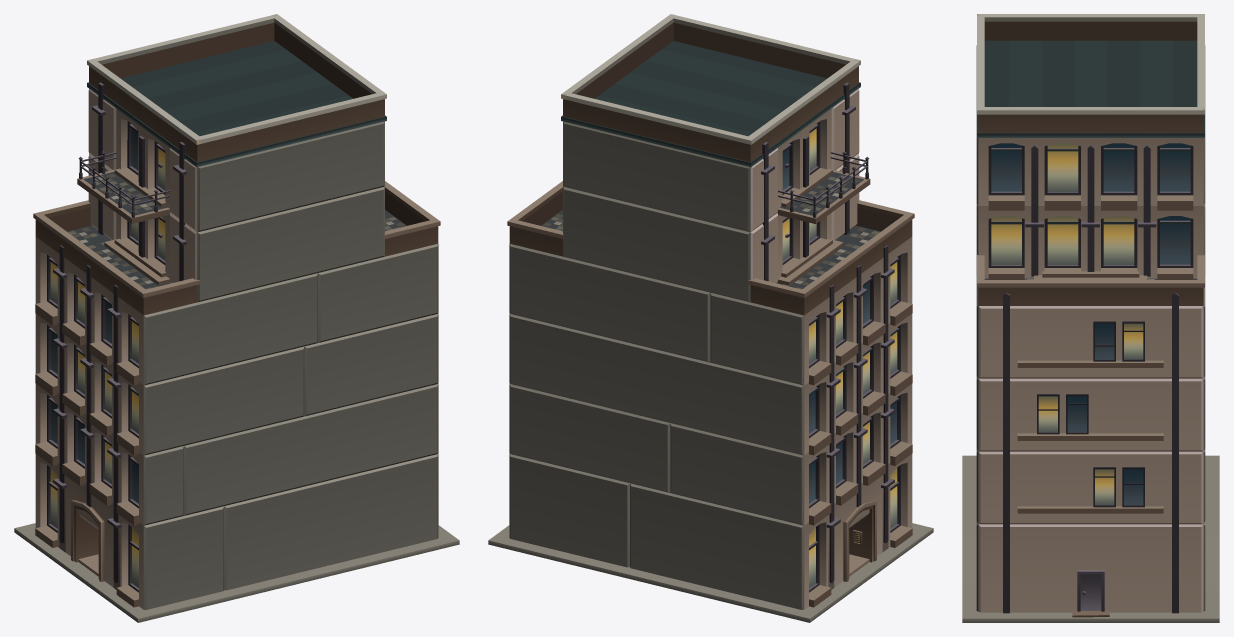
File: Building_19C.fbx
3 renders of one model, left to right at view 1: azimuth 30°, elevation 25°; view 2: azimuth 150°, elevation 25°; view 3: azimuth 270°, elevation 25°, orthographic. The views are drawn at different scales.
Parts seen in each view (by area): view 1: Building_19C, Window_Lights_19C; view 2: Building_19C, Window_Lights_19C; view 3: Building_19C, Window_Lights_19C.
Boxes of the visible parts, left/top/right/bottom form: Building_19C: left=14, top=14, right=459, bottom=622; Window_Lights_19C: left=50, top=144, right=165, bottom=587; Building_19C: left=488, top=14, right=933, bottom=622; Window_Lights_19C: left=782, top=124, right=897, bottom=587; Building_19C: left=962, top=14, right=1219, bottom=622; Window_Lights_19C: left=991, top=143, right=1143, bottom=504.
Bounding box in the file's own units: 2400 × 3290 × 1600.
